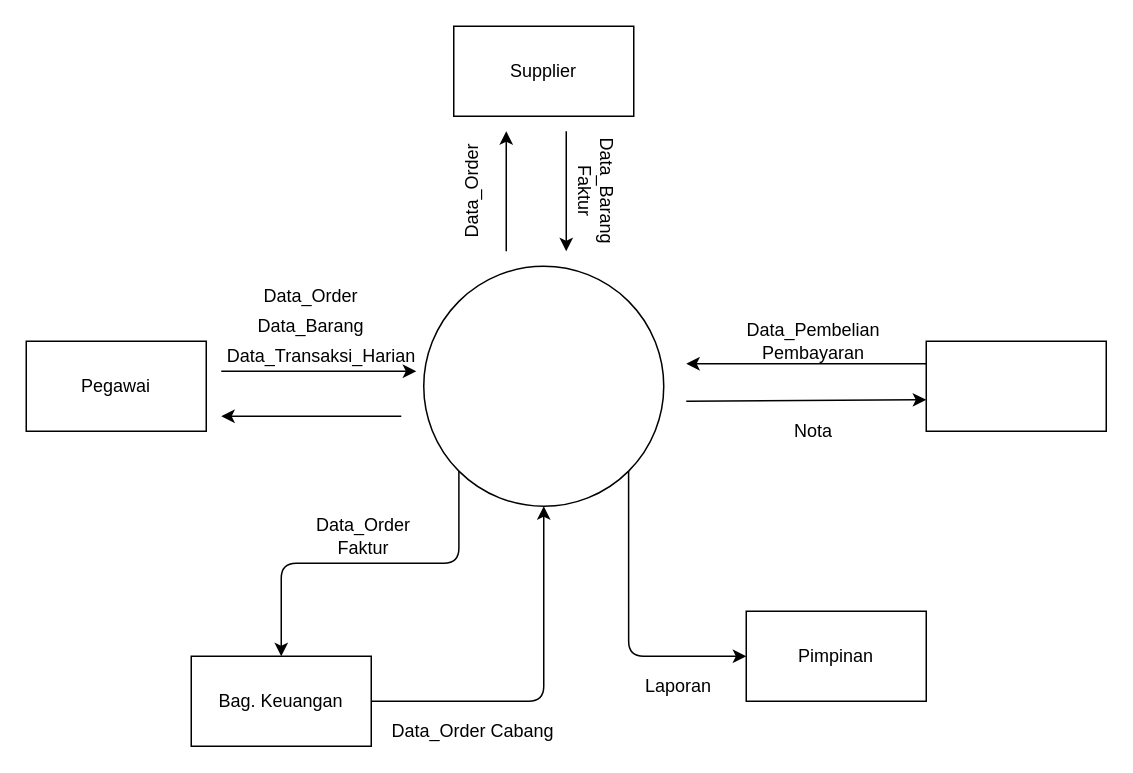
Some shapes in this 1133 by 773 pixel diagram are drawn without their labels. Each missing label, with the box of its shape:
Konsumen: (925, 340, 1106, 431)
Sistem Informasi Penjualan: (422, 265, 664, 506)
